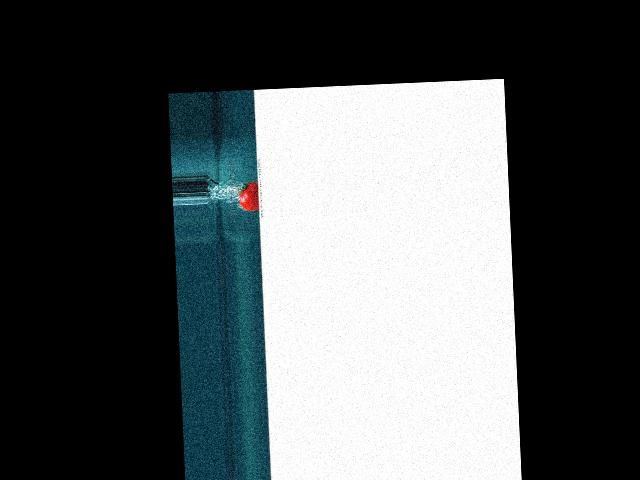tomato: (238, 180, 259, 211)
